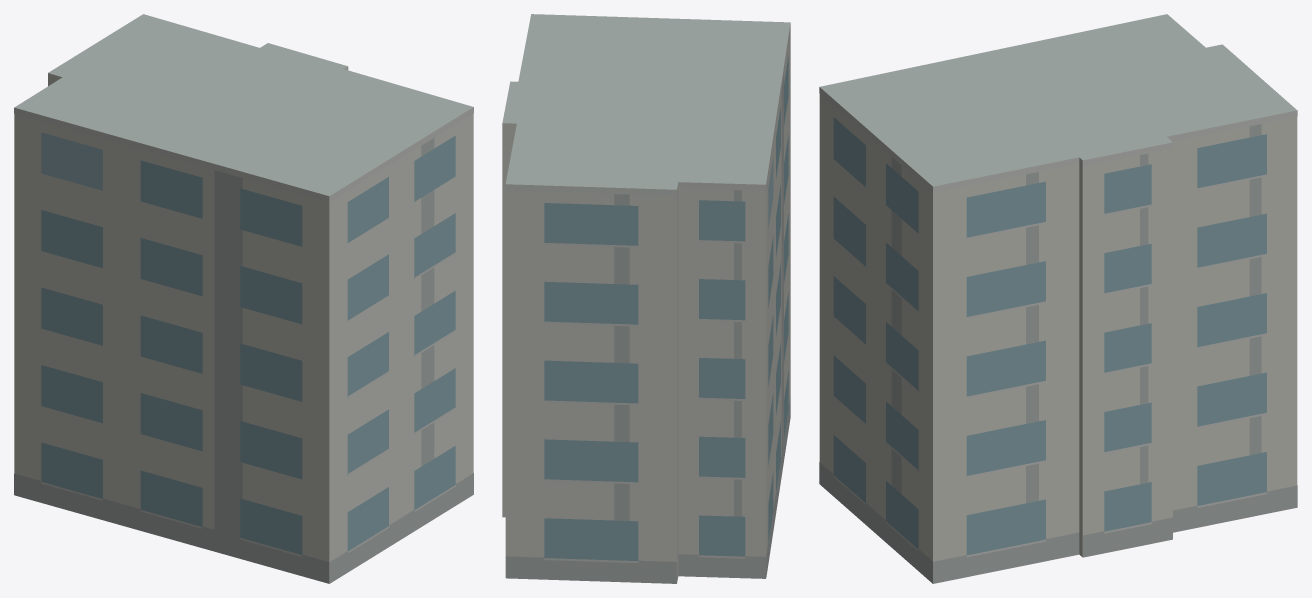
The model's file is residential-309eaa6d-06b0-4269-8f29-5c8b7383dea7.glb.
3 views of the same model, side by side, from view 1: azimuth 30°, elevation 25°; view 2: azimuth 150°, elevation 25°; view 3: azimuth 270°, elevation 25° (orthographic). The views are drawn at different scales.
Visible parts, largest first — view 1: residential-309eaa6d-06b0-4269-8f29-5c8b7383dea7.tmp; view 2: residential-309eaa6d-06b0-4269-8f29-5c8b7383dea7.tmp; view 3: residential-309eaa6d-06b0-4269-8f29-5c8b7383dea7.tmp.
Boxes of the visible parts, x1,y1,x2,y2 form: residential-309eaa6d-06b0-4269-8f29-5c8b7383dea7.tmp: (14,14,473,583); residential-309eaa6d-06b0-4269-8f29-5c8b7383dea7.tmp: (502,14,790,583); residential-309eaa6d-06b0-4269-8f29-5c8b7383dea7.tmp: (819,14,1297,583).
Bounding box in the file's own units: 14.23 × 15.25 × 16.64.
